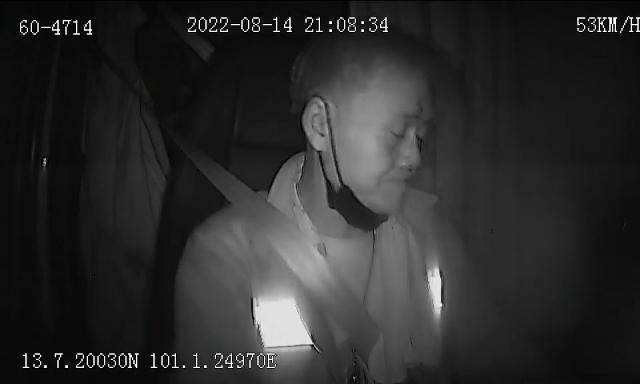Seatbelt: (186, 145, 376, 343)
